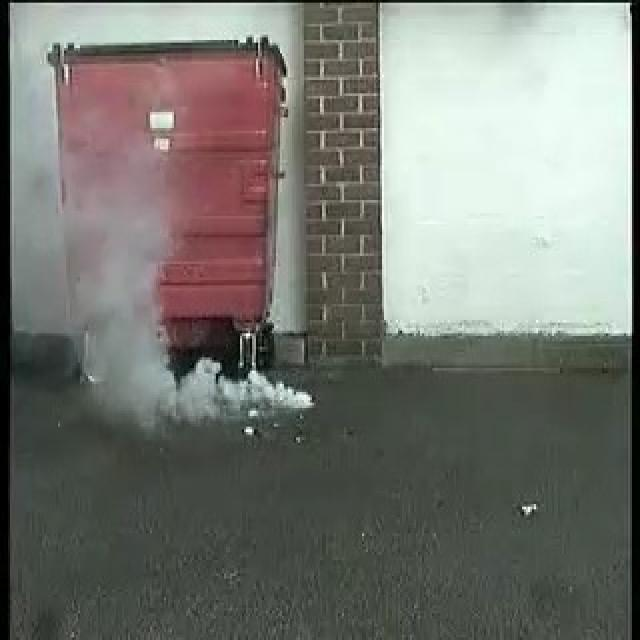smoke: (69, 222, 312, 413)
